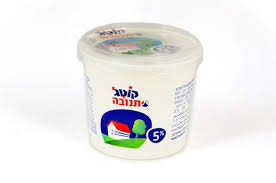Cotage: (70, 22, 203, 165)
